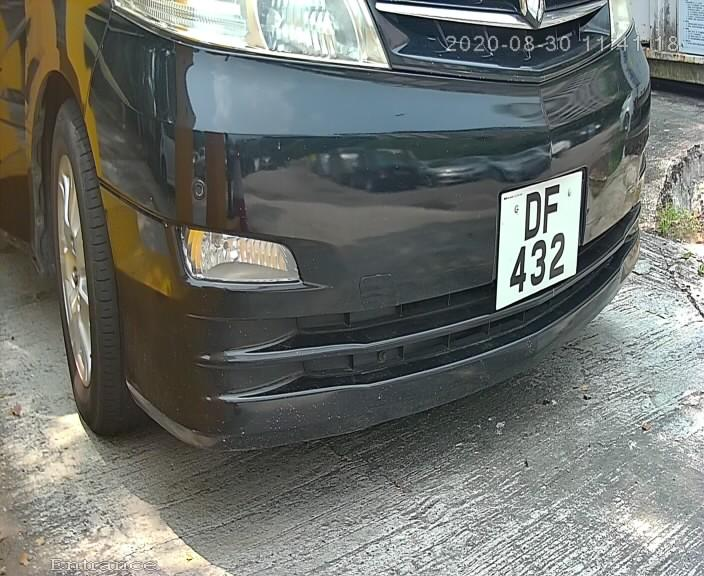License Plate: (491, 160, 591, 319)
